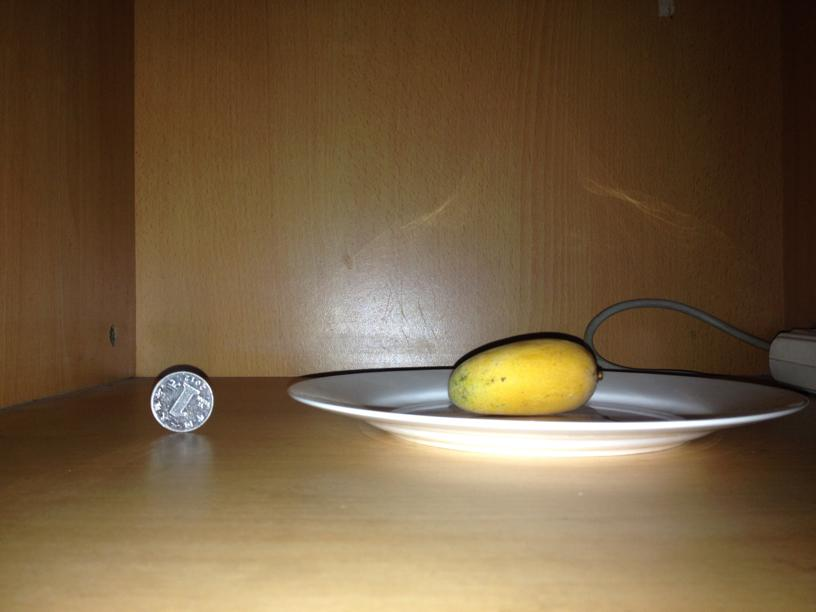coin: (149, 370, 214, 432)
mango: (452, 335, 598, 416)
